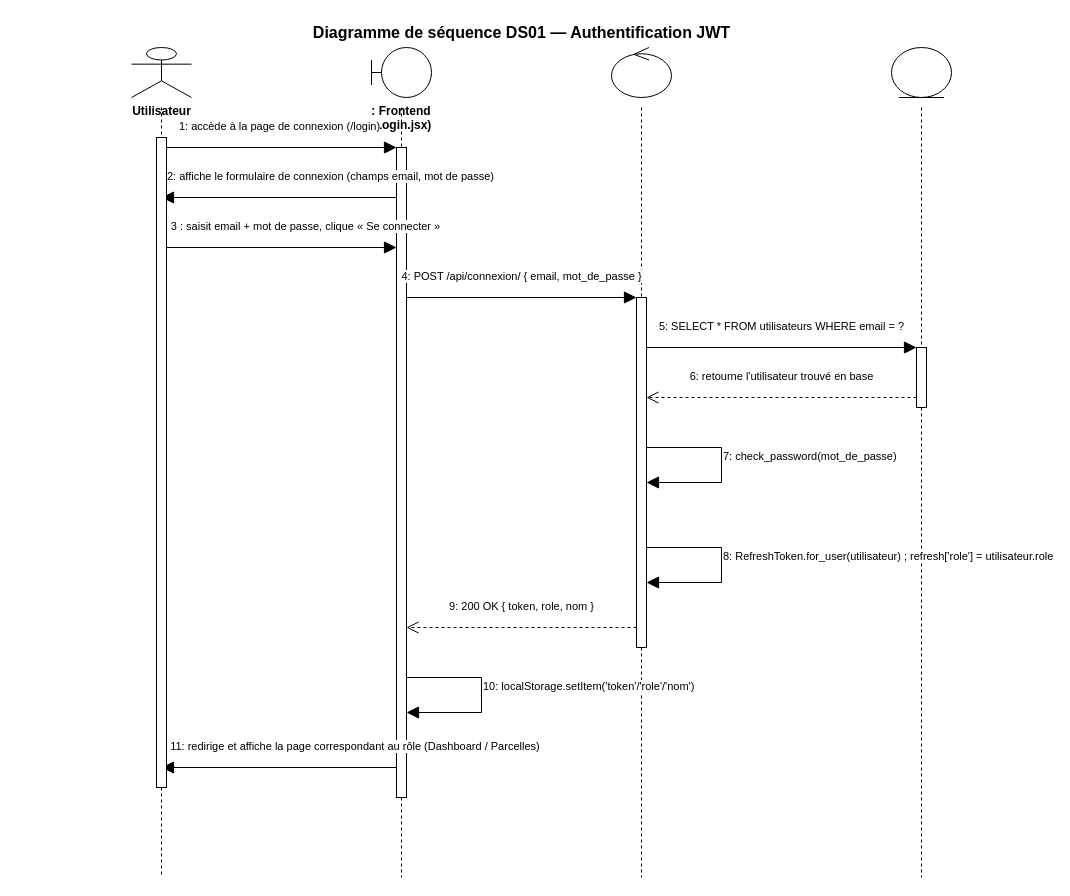
Image size: 1070x896. Some labels were removed from this diagram. Here are the shapes that lost their labels. From the top down, the centre of each, then its label:
At (x=641, y=72): ": API Django (/api/connexion/)".
At (x=921, y=72): ": Base de données (MySQL)".
